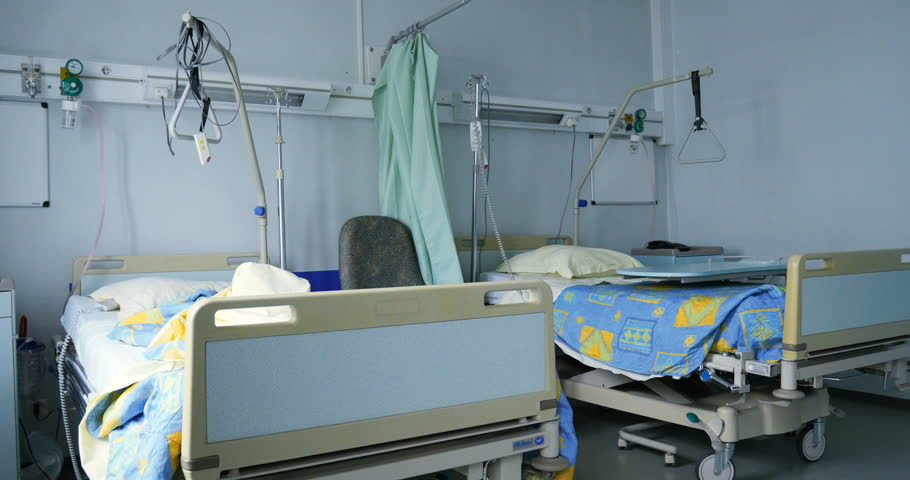bedside table: (616, 249, 796, 281)
hospital bed: (59, 242, 569, 445), (504, 221, 886, 373)
